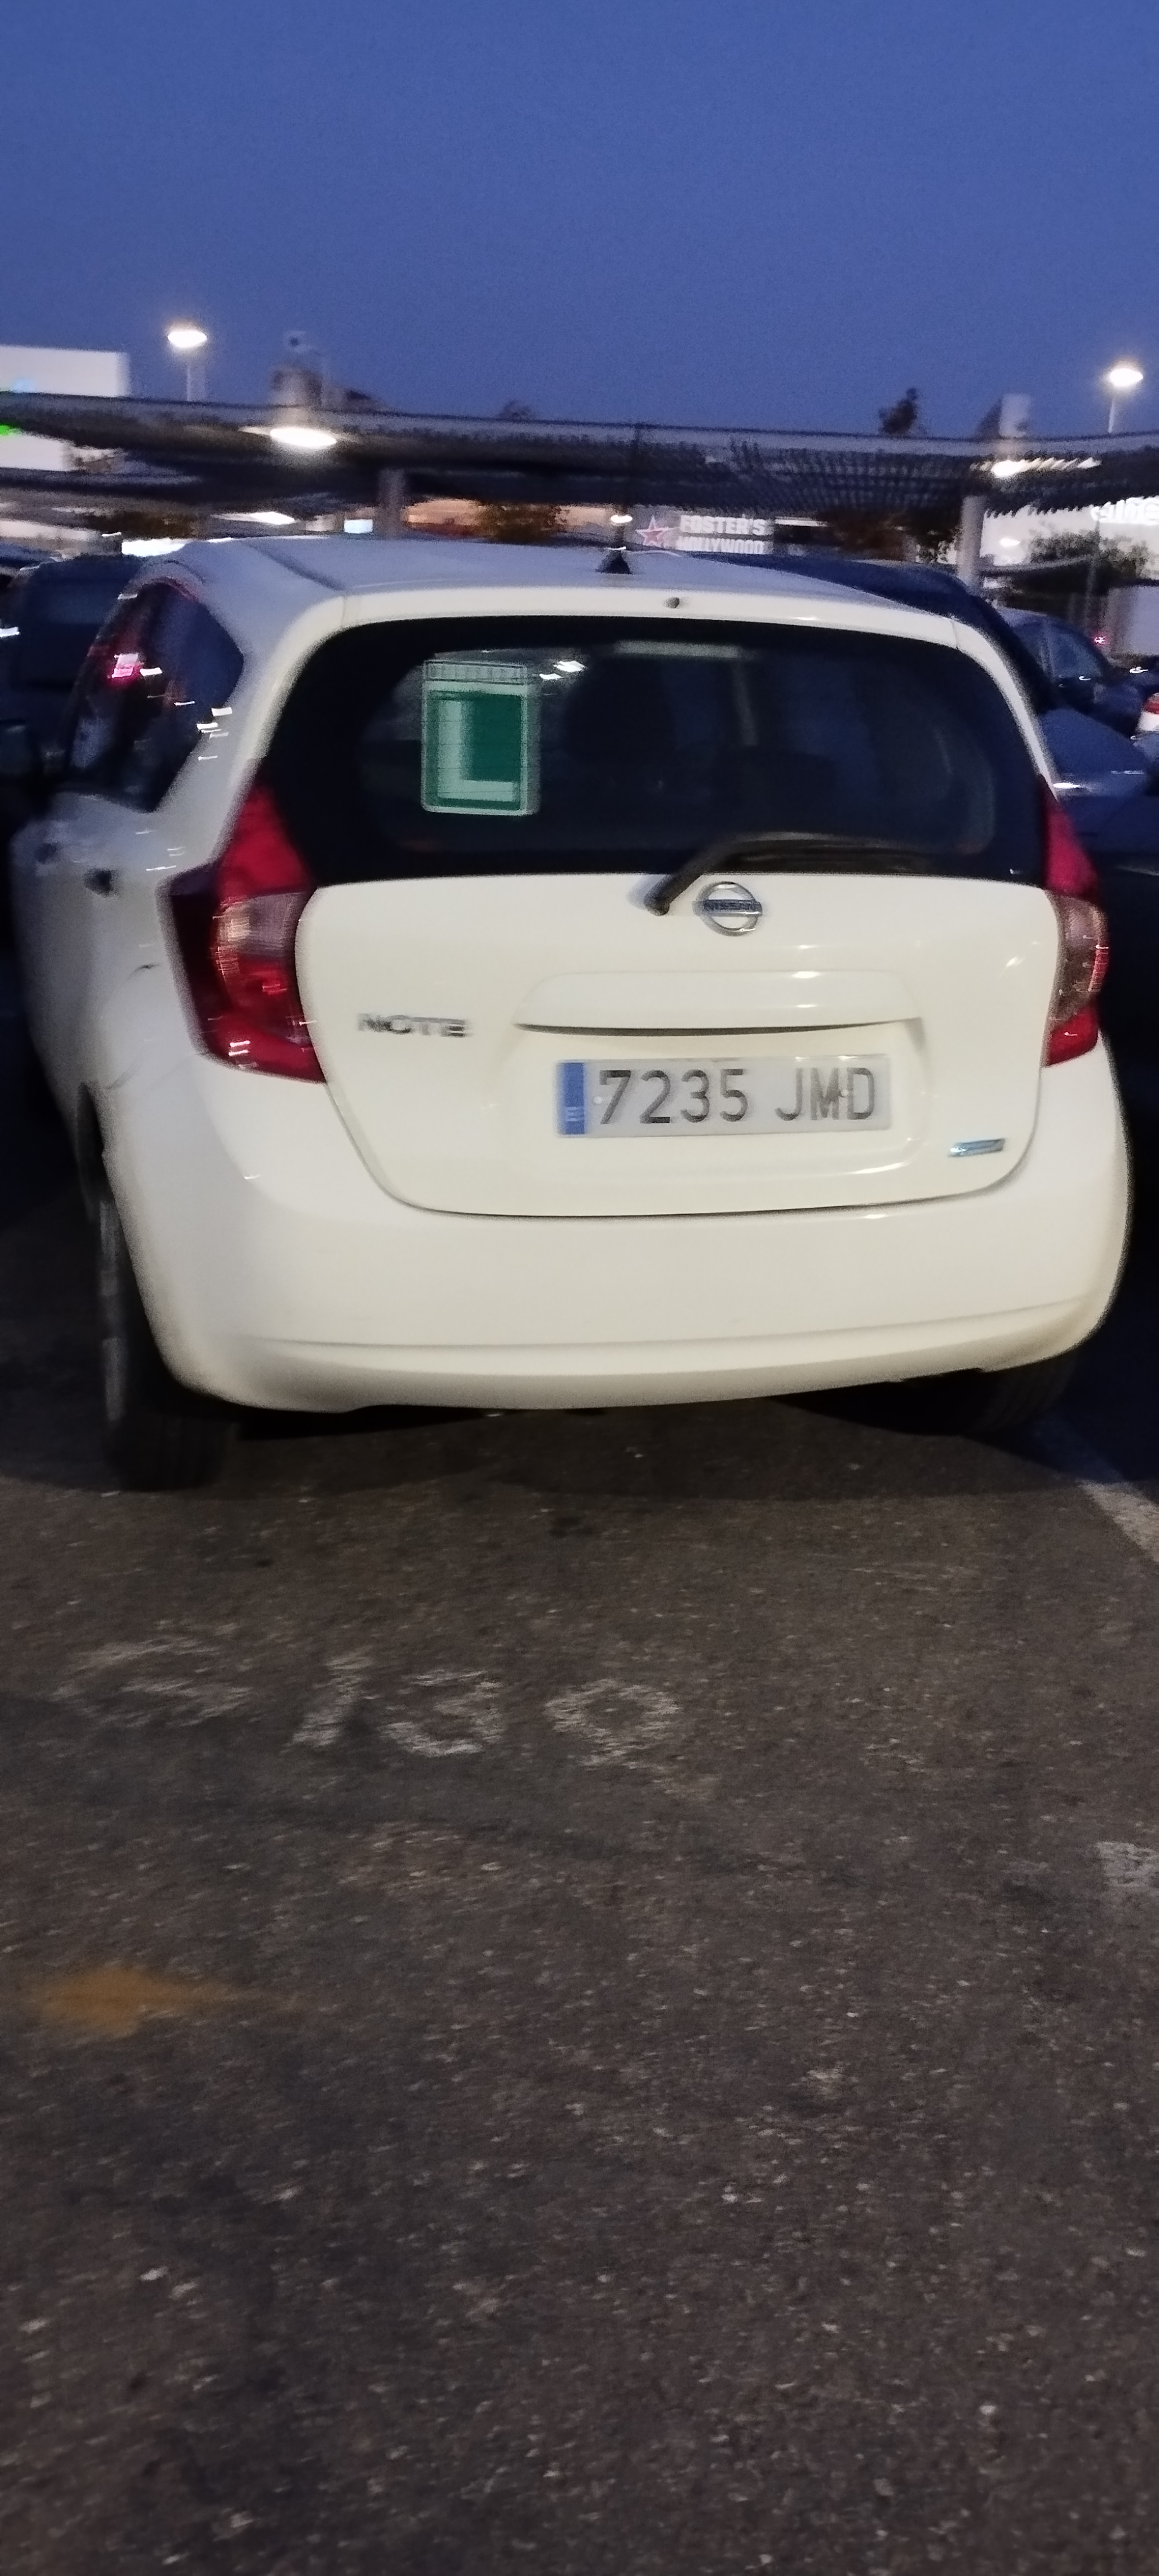Car: (0, 546, 1117, 1497)
Plate: (558, 1063, 889, 1136)
